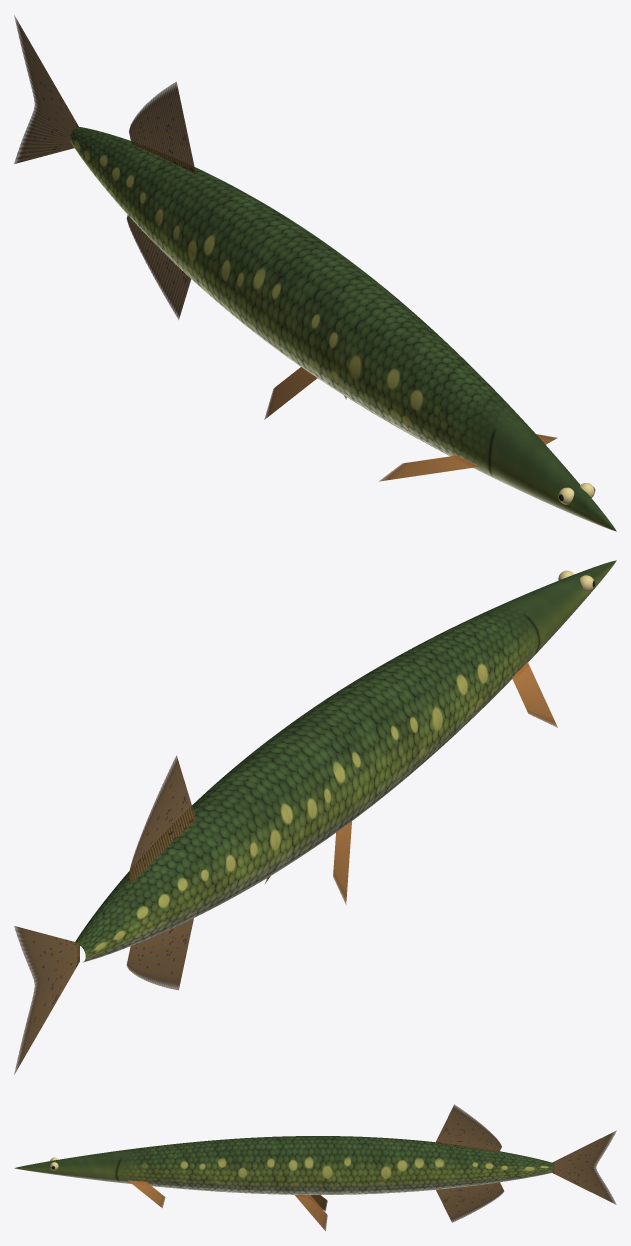
File: schuka.glb
3 views of the same model, one above another, from view 1: azimuth 30°, elevation 25°; view 2: azimuth 150°, elevation 25°; view 3: azimuth 270°, elevation 25° (orthographic). The views are drawn at different scales.
Parts seen in each view (by area): view 1: body, fin_tail, fin_dorsal0, fin_anal0, fin_pect_R, fin_pelv_R; view 2: body, fin_tail, fin_dorsal0, fin_anal0, fin_pect_R, fin_pelv_R; view 3: body, fin_tail, fin_dorsal0, fin_anal0, fin_pelv_L, fin_pect_L.
Boxes of the visible parts, x1,y1,x2,y2 form: body: (70,127,616,531); fin_tail: (14,15,78,163); fin_dorsal0: (129,82,195,174); fin_anal0: (126,215,191,319); fin_pect_R: (379,455,478,481); fin_pelv_R: (264,367,317,419); body: (75,560,616,962); fin_tail: (14,926,79,1074); fin_dorsal0: (129,755,195,882); fin_anal0: (126,918,193,990); fin_pect_R: (512,662,557,727); fin_pelv_R: (333,821,351,904); body: (14,1136,552,1194); fin_tail: (552,1130,616,1204); fin_dorsal0: (435,1104,501,1151); fin_anal0: (436,1182,503,1222); fin_pelv_L: (295,1195,327,1231); fin_pect_L: (128,1180,165,1207).
Bounding box in the file's own units: 0.1462 × 0.1844 × 0.85.
5 materials, 3 textured.
